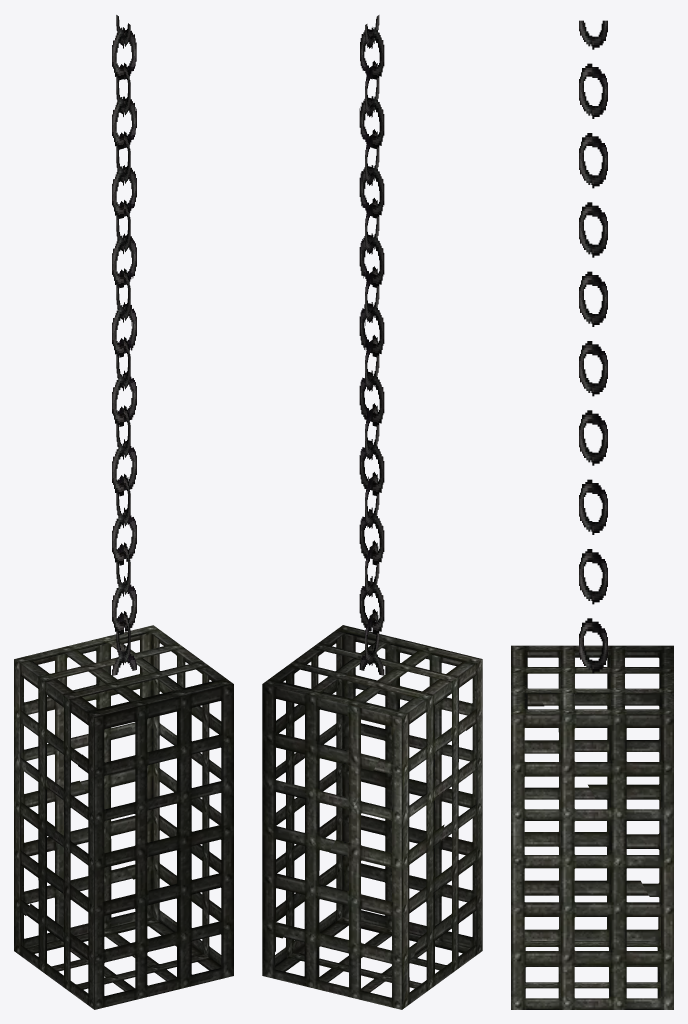
The model's file is OC_LOB_CAGE2.glb.
The picture shows the model from 3 angles, left to right: view 1: azimuth 30°, elevation 25°; view 2: azimuth 150°, elevation 25°; view 3: azimuth 270°, elevation 25°; orthographic projection.
Visible parts, largest first — view 1: Mesh; view 2: Mesh; view 3: Mesh.
Part boxes in pixels (<box>): Mesh: <box>14,15,233,1009</box>; Mesh: <box>262,15,482,1009</box>; Mesh: <box>511,20,673,1009</box>.
Bounding box in the file's own units: 1 × 6.46 × 1.
2 materials, 2 textured.
